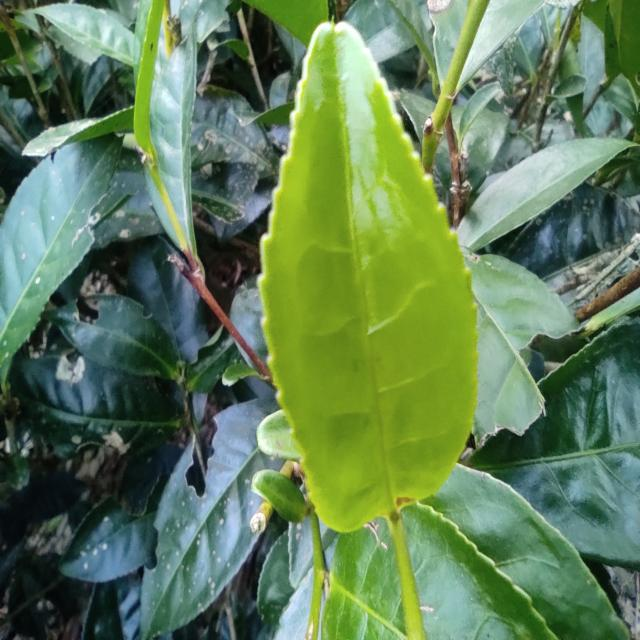Category C(4-7 days): (236, 10, 513, 579)
